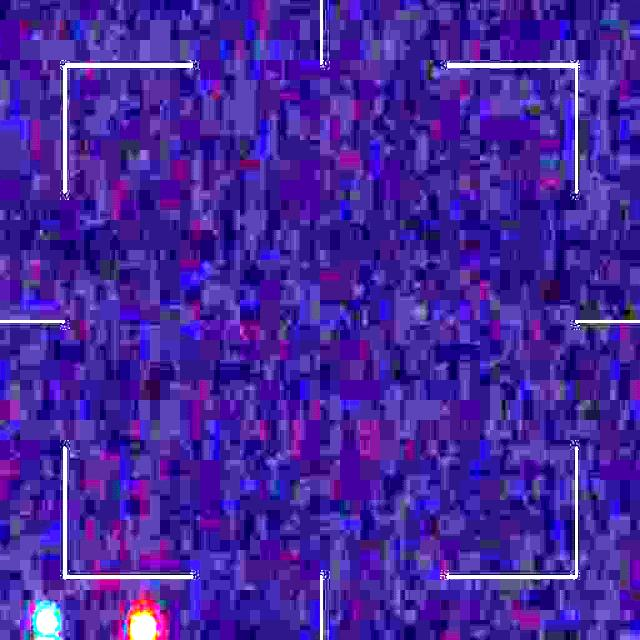bird: (36, 606, 156, 640)
